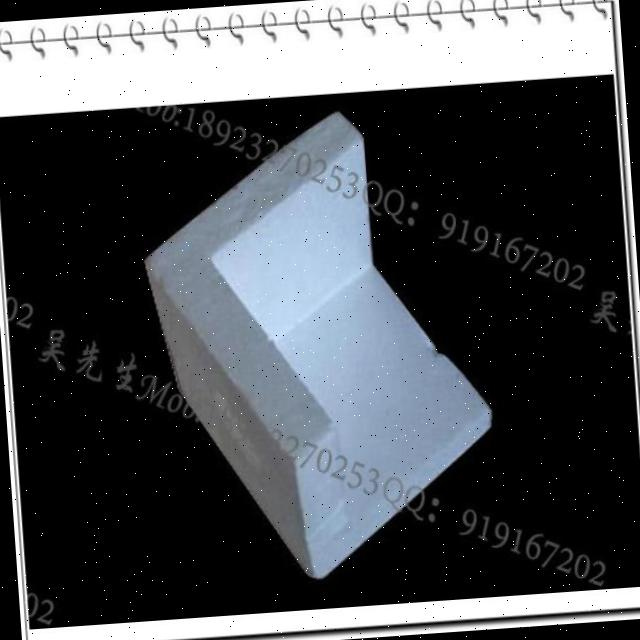styrofoam: (132, 99, 503, 590)
